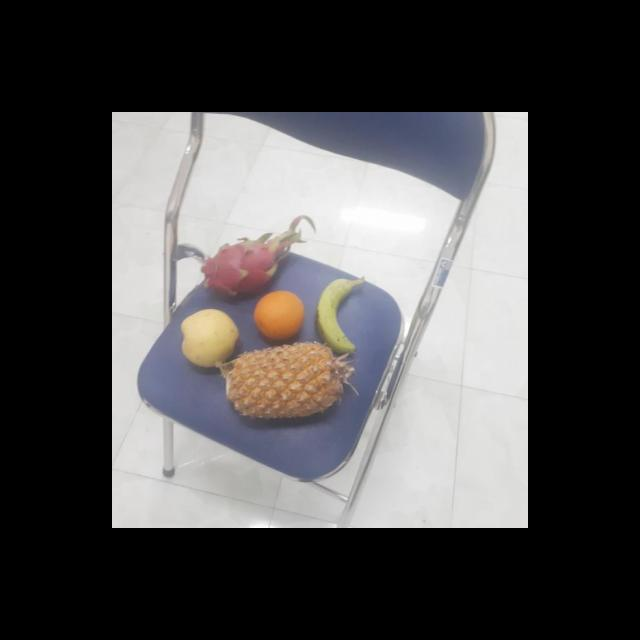orange: (254, 289, 309, 342)
pear: (180, 310, 242, 369)
pineapple: (225, 344, 349, 421)
pitaya: (206, 241, 285, 302)
